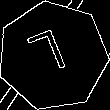L_S: (29, 27, 77, 85)
